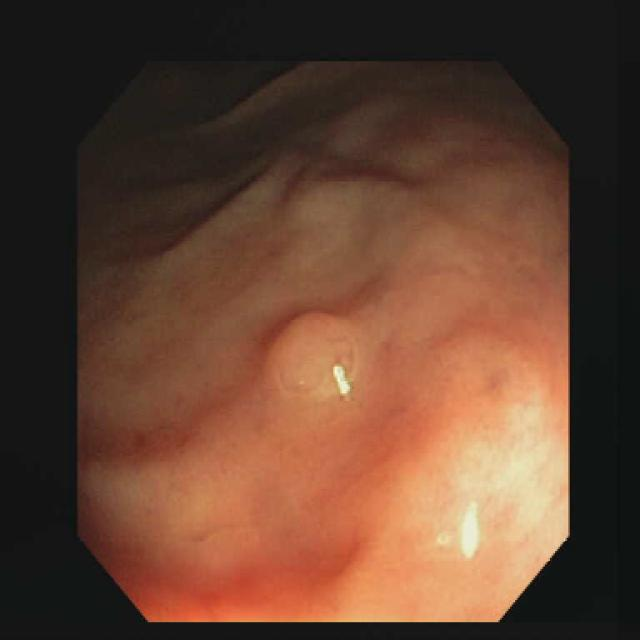tumor: (262, 313, 363, 400)
